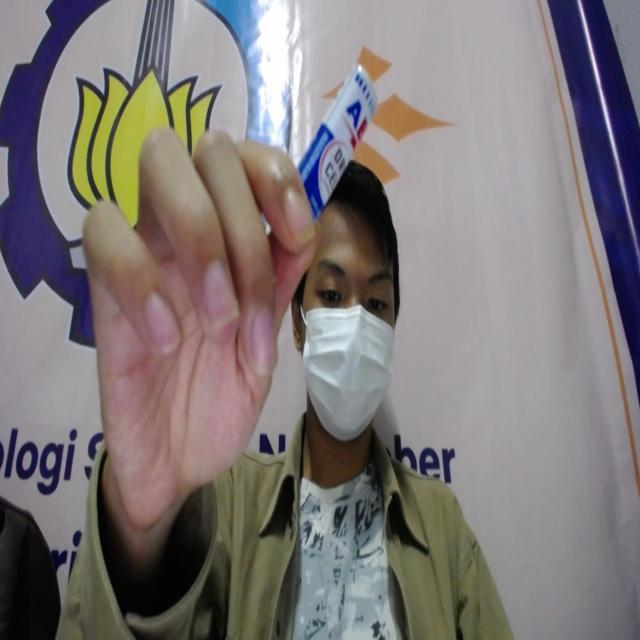Hazard: (280, 61, 386, 229)
